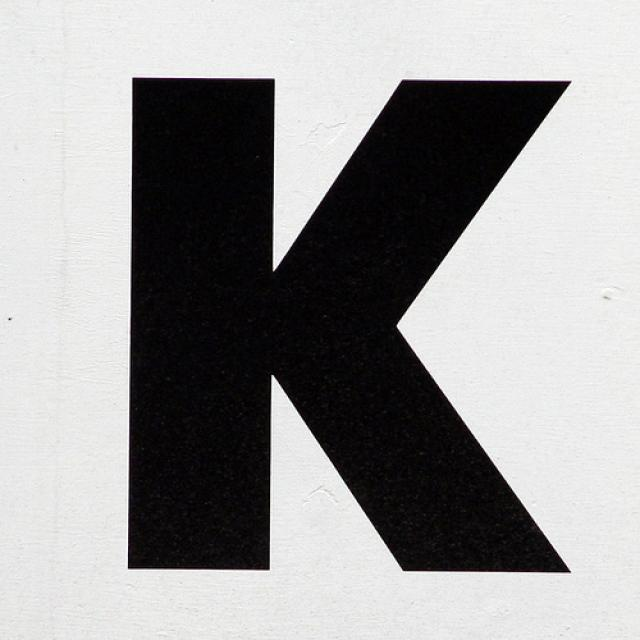K: (69, 40, 608, 608)
